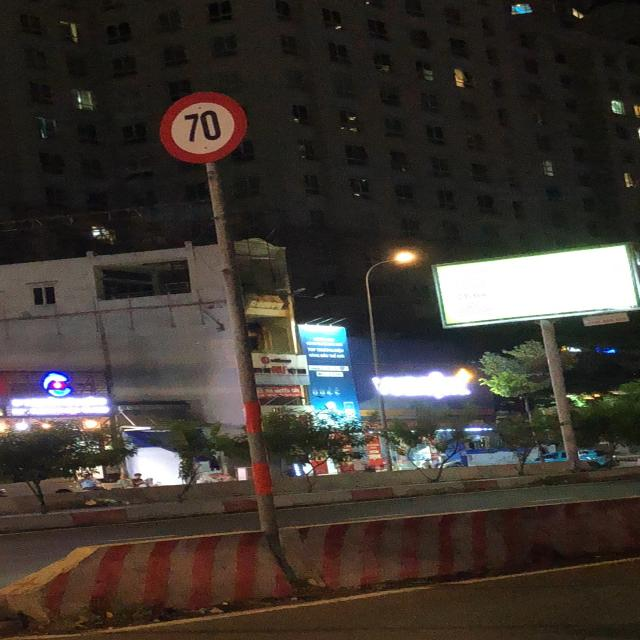Bien bao toc do toi da cho phep: (153, 90, 256, 158)
